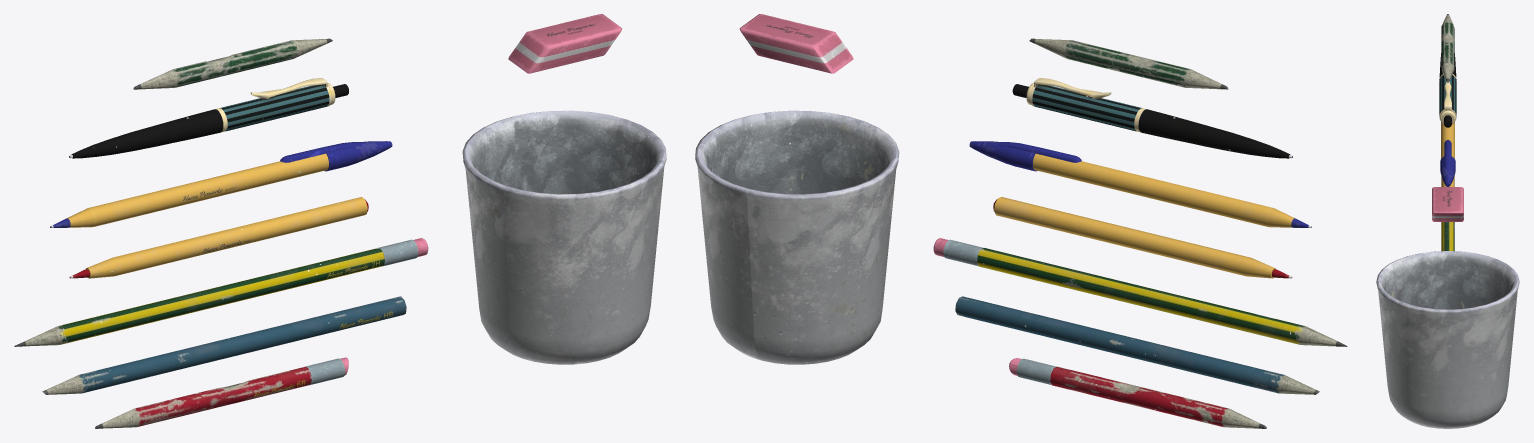
The model's file is StationerySet.obj.
The picture shows the model from 3 angles, left to right: view 1: azimuth 30°, elevation 25°; view 2: azimuth 150°, elevation 25°; view 3: azimuth 270°, elevation 25°; orthographic projection. The views are drawn at different scales.
Visible parts, largest first — view 1: Stationery; view 2: Stationery; view 3: Stationery.
Part boxes in pixels (x1=…): Stationery: x1=14, y1=14, x2=666, y2=428; Stationery: x1=695, y1=14, x2=1347, y2=428; Stationery: x1=1376, y1=14, x2=1519, y2=428.
Size of the model in its own units: 0.3018 by 0.1643 by 0.0836.
1 material, 1 textured.
